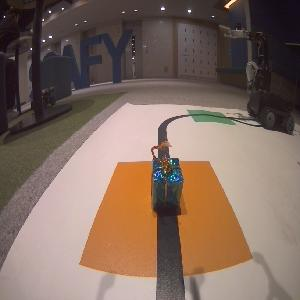box: (149, 158, 184, 209)
